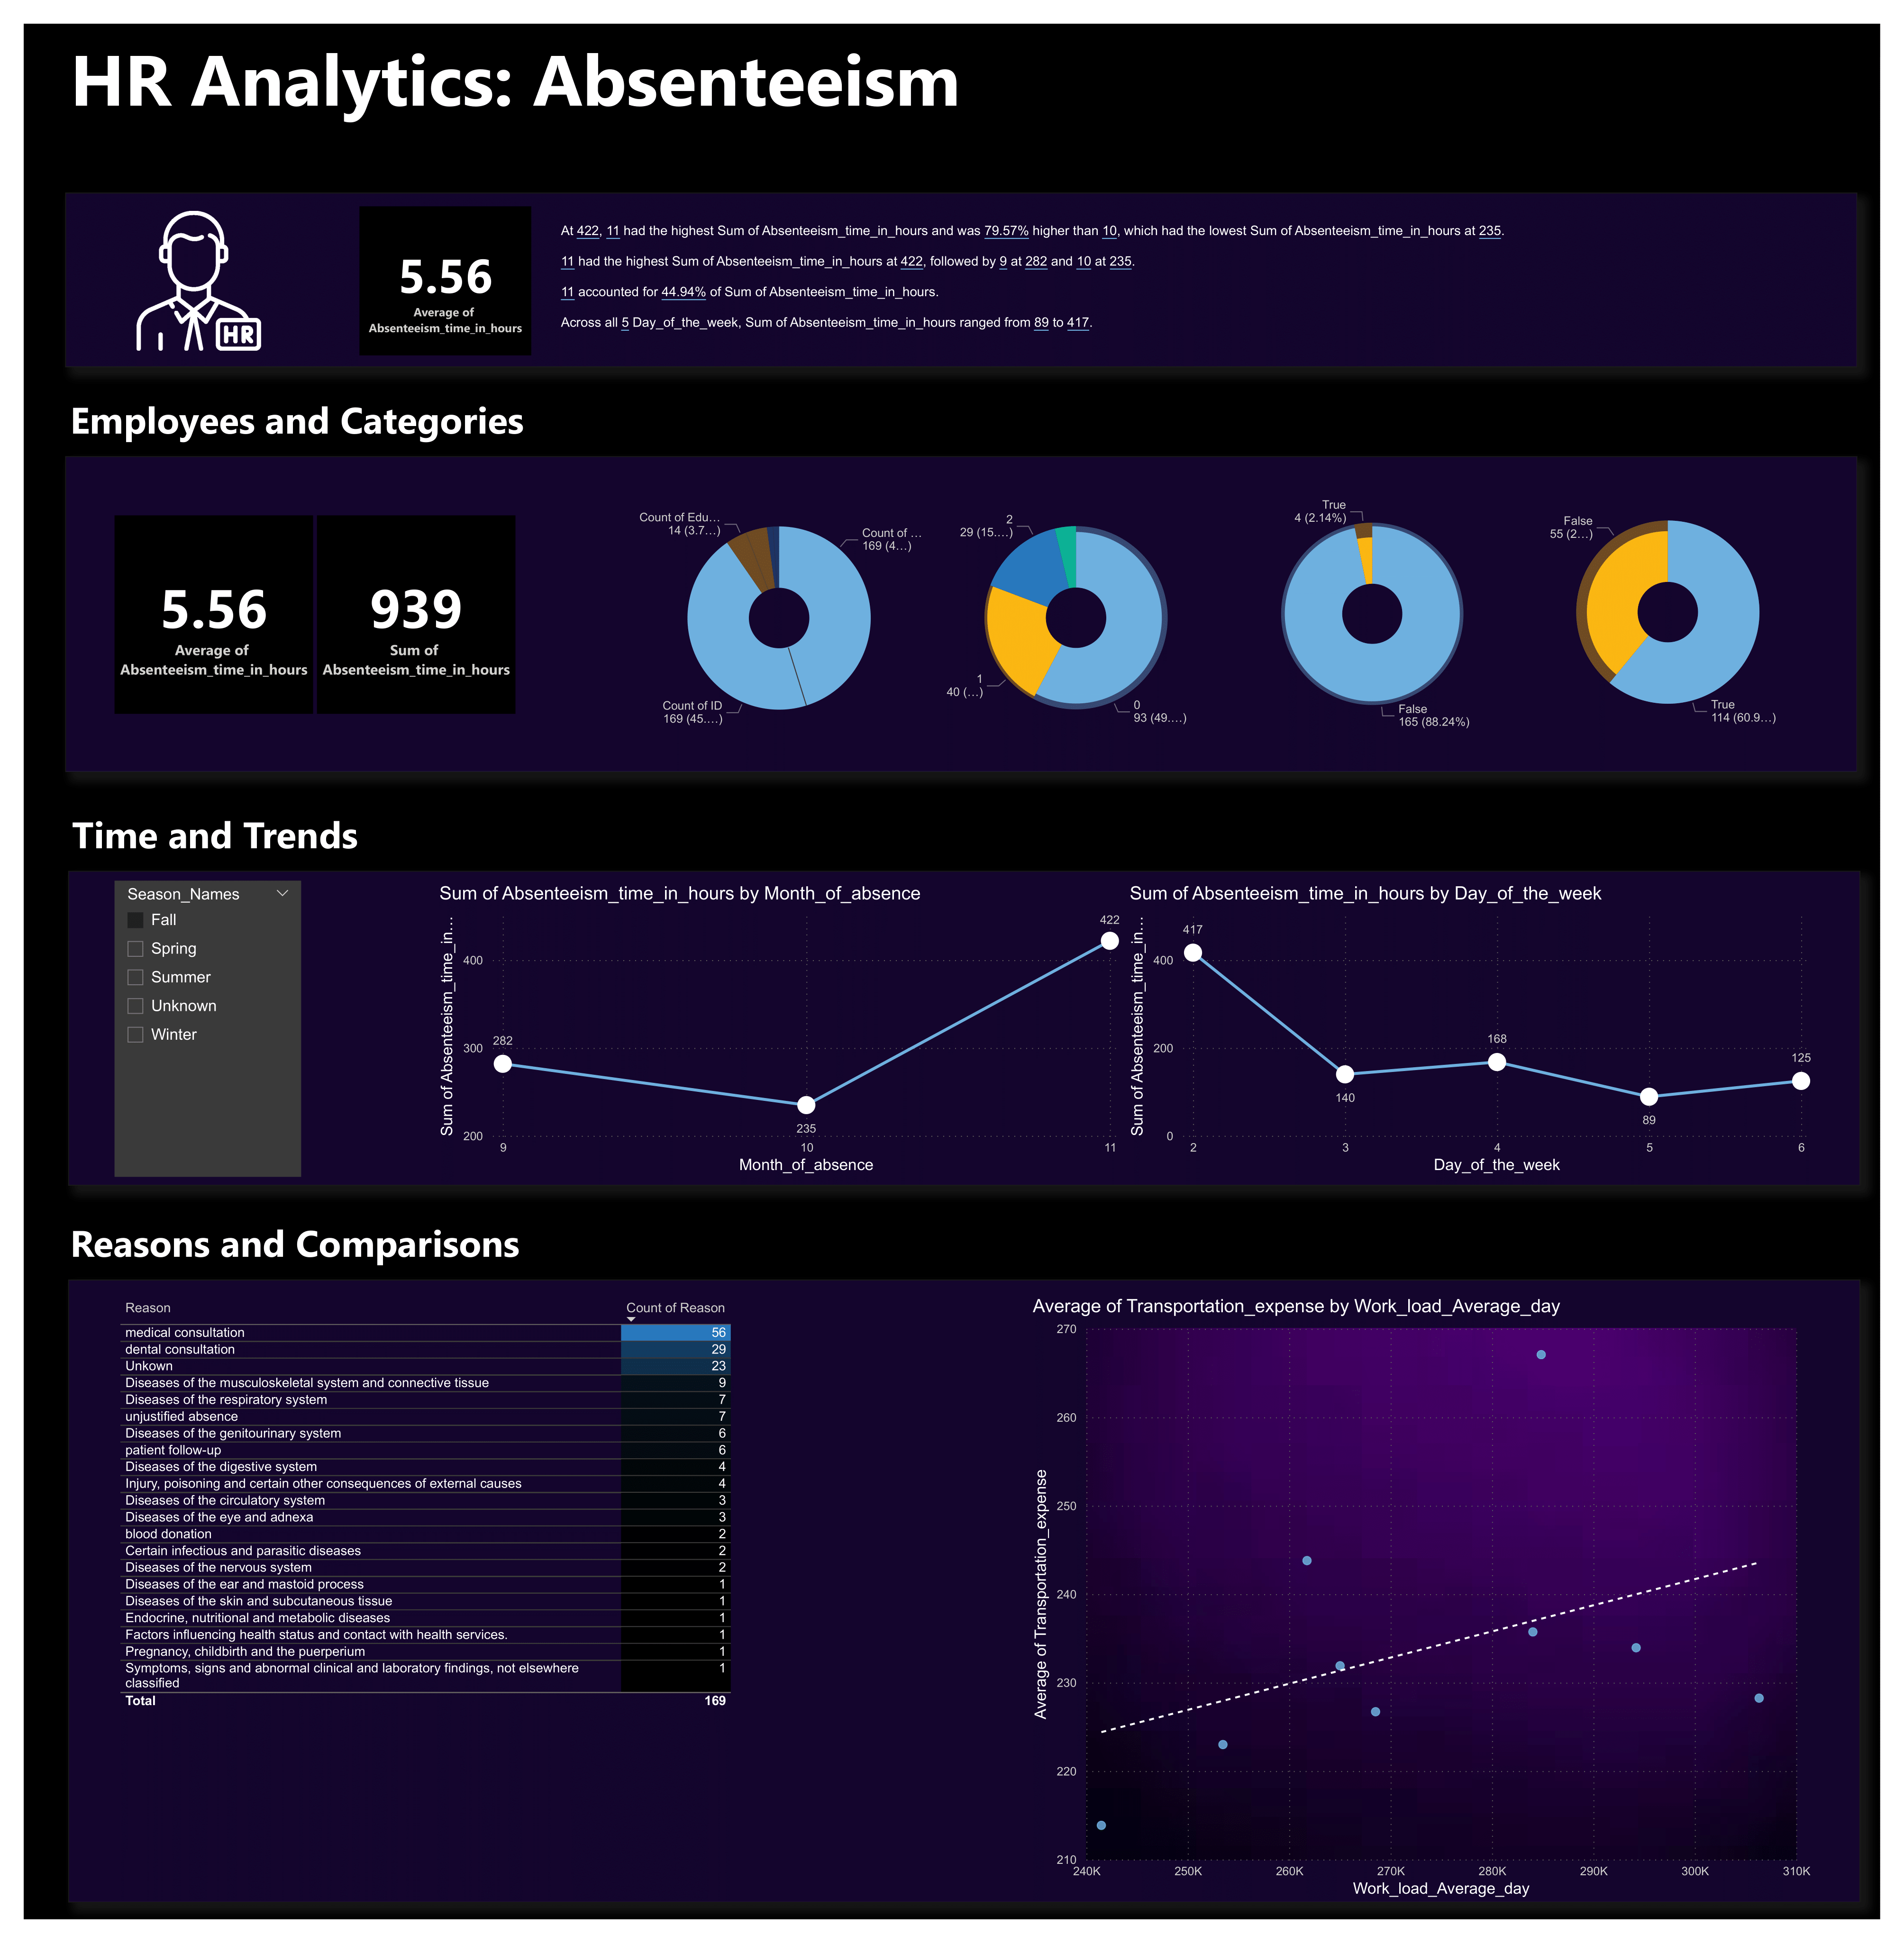

The dashboard page shown, as its layout file describes it:
{"tool":"powerbi","page":{"name":"Page 2","canvas":[1880,1920],"ordinal":0},"visuals":[{"type":"shape","box":[42.2,170.8,1814.6,176.8],"z":0},{"type":"shape","box":[45.1,1272.2,1814.6,631],"z":1000},{"type":"shape","box":[45.1,857.5,1814.6,319.5],"z":2000},{"type":"shape","box":[42.2,438.1,1814.6,319.5],"z":3000},{"type":"card","fields":{"Values":["Avg(Query1.Absenteeism_time_in_hours)"]},"box":[339.6,184.9,174.8,150.7],"z":4000},{"type":"donutChart","fields":{"Category":["Query1.Education"],"Y":["CountNonNull(Query1.Education)","CountNonNull(Query1.ID)"]},"box":[614.9,452.1,300,300],"z":5000},{"type":"donutChart","fields":{"Category":["Query1.Pet"],"Y":["CountNonNull(Query1.Pet)"]},"box":[916.3,452.1,299.4,299.4],"z":6000},{"type":"donutChart","fields":{"Category":["Query1.Social_smoker"],"Y":["CountNonNull(Query1.Social_smoker)"]},"box":[1215.8,448.1,299.4,299.4],"z":7000},{"type":"donutChart","fields":{"Category":["Query1.Social_drinker"],"Y":["CountNonNull(Query1.Social_drinker)"]},"box":[1515.2,446.1,300,300],"z":8000},{"type":"lineChart","fields":{"Category":["Query1.Month_of_absence"],"Y":["Sum(Query1.Absenteeism_time_in_hours)"]},"box":[416,870.1,699.3,299.4],"z":9000},{"type":"lineChart","fields":{"Category":["Query1.Day_of_the_week"],"Y":["Sum(Query1.Absenteeism_time_in_hours)"]},"box":[1115.3,870.1,699.3,299.4],"z":10000},{"type":"tableEx","fields":{"Values":["Query1.Reason","CountNonNull(Query1.Reason)"]},"box":[92.4,1288.1,701.3,614.9],"z":11000},{"type":"scatterChart","fields":{"X":["Query1.Work_load_Average_day"],"Y":["Query1.Transportation_expense"]},"box":[1016.8,1288.1,797.8,614.9],"z":12000},{"type":"textbox","box":[538.6,196.9,1276,150.7],"z":13000},{"type":"card","fields":{"Values":["Sum(Query1.Absenteeism_time_in_hours)"]},"box":[297.4,498.4,201,201],"z":14000},{"type":"card","fields":{"Values":["Avg(Query1.Absenteeism_time_in_hours)"]},"box":[92.4,498.4,201,201],"z":15000},{"type":"slicer","fields":{"Values":["Query1.Season_Names"]},"box":[92.4,868.1,188.9,299.4],"z":16000},{"type":"textbox","box":[42.2,0,1814.6,146.7],"z":17000},{"type":"textbox","box":[42.2,369.8,1422.7,68.3],"z":18000},{"type":"textbox","box":[42.2,1203.7,1422.7,68.3],"z":19000},{"type":"textbox","box":[44.2,789.7,1422.7,68.3],"z":20000},{"type":"image","box":[100.5,184.9,154.7,150.7],"z":21000}]}

Visuals, with their boxes in screenshot pixels (x1, y1, x2, y2), scaled from the page's 1880x1920 canvas onto the 1904x1943 screenshot:
shape: 43:173:1880:352
shape: 46:1288:1884:1926
shape: 46:868:1884:1191
shape: 43:444:1880:767
card - Avg(Query1.Absenteeism_time_in_hours): 344:187:521:340
donutChart - Query1.Education x CountNonNull(Query1.Education): 623:457:927:761
donutChart - Query1.Pet x CountNonNull(Query1.Pet): 928:457:1231:761
donutChart - Query1.Social_smoker x CountNonNull(Query1.Social_smoker): 1231:454:1535:756
donutChart - Query1.Social_drinker x CountNonNull(Query1.Social_drinker): 1535:452:1839:755
lineChart - Query1.Month_of_absence x Sum(Query1.Absenteeism_time_in_hours): 421:881:1130:1183
lineChart - Query1.Day_of_the_week x Sum(Query1.Absenteeism_time_in_hours): 1130:881:1838:1183
tableEx - Query1.Reason x CountNonNull(Query1.Reason): 93:1304:804:1926
scatterChart - Query1.Work_load_Average_day x Query1.Transportation_expense: 1030:1304:1838:1926
textbox: 546:199:1838:352
card - Sum(Query1.Absenteeism_time_in_hours): 301:504:505:708
card - Avg(Query1.Absenteeism_time_in_hours): 93:504:297:708
slicer - Query1.Season_Names: 93:879:285:1181
textbox: 43:0:1880:148
textbox: 43:374:1484:444
textbox: 43:1218:1484:1287
textbox: 45:799:1485:868
image: 102:187:258:340
